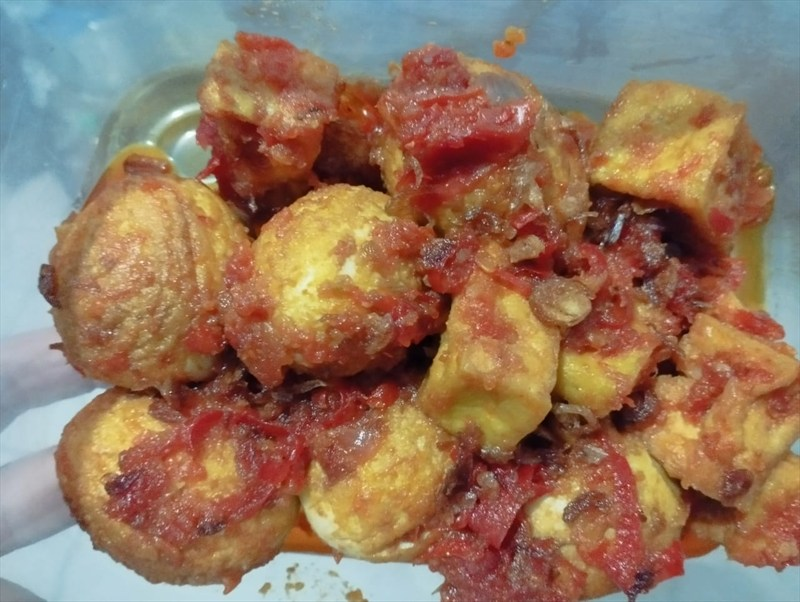Telur Balado: (172, 109, 713, 518)
